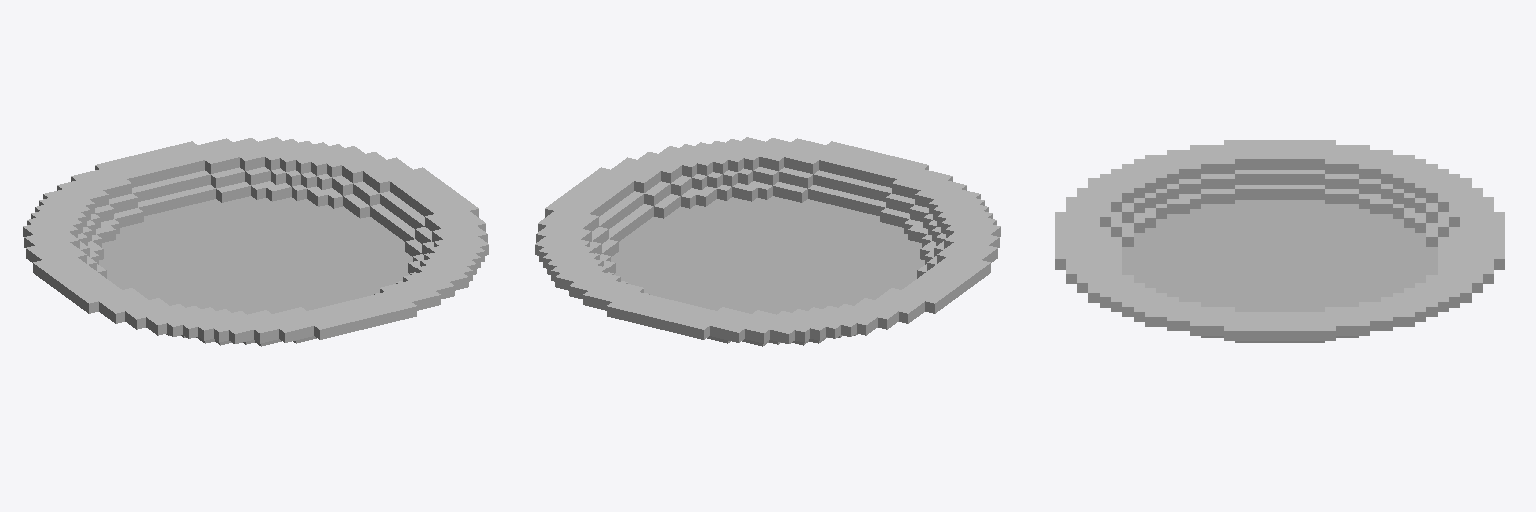
3 views of the same model, side by side, from view 1: azimuth 30°, elevation 25°; view 2: azimuth 150°, elevation 25°; view 3: azimuth 270°, elevation 25° (orthographic).
Visible parts, largest first — view 1: object 1; view 2: object 1; view 3: object 1.
Part boxes in pixels (x1,y1,x2,y2): object 1: (23,137,488,346); object 1: (535,137,1000,346); object 1: (1055,140,1504,342).
Bounding box in the file's own units: 4 × 0.4 × 4.
1 materials, 1 textured.